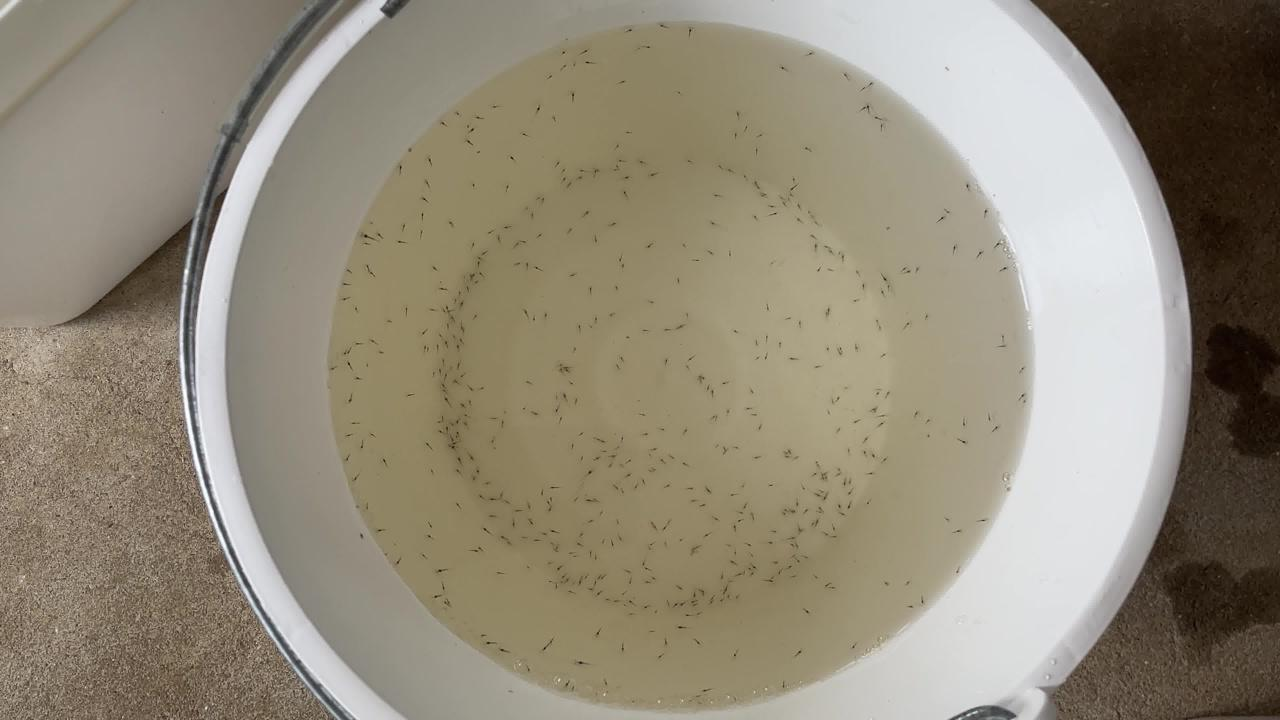shrimp: (653, 656, 665, 664), (658, 643, 670, 651), (642, 629, 654, 637), (674, 625, 686, 633), (689, 639, 701, 647), (679, 614, 691, 622), (692, 611, 704, 619), (661, 600, 673, 608), (615, 646, 627, 654), (591, 631, 603, 639), (599, 598, 611, 606), (611, 599, 623, 607), (615, 592, 627, 600), (624, 599, 636, 607), (624, 609, 636, 617), (640, 605, 652, 613), (646, 608, 658, 616), (673, 600, 685, 608), (673, 587, 685, 595), (687, 590, 699, 598), (687, 597, 699, 605), (687, 601, 699, 609), (694, 590, 706, 598), (705, 595, 717, 603), (702, 601, 714, 609), (712, 597, 724, 605), (722, 594, 734, 602), (728, 595, 740, 603), (720, 588, 732, 596), (716, 575, 728, 583), (722, 579, 734, 587), (730, 572, 742, 580), (735, 572, 747, 580), (728, 561, 740, 569), (728, 553, 740, 561), (743, 568, 755, 576), (744, 564, 756, 572), (761, 579, 773, 587), (763, 575, 775, 583), (773, 570, 785, 578), (771, 562, 783, 570), (780, 564, 792, 572), (788, 572, 800, 580), (806, 574, 818, 582), (791, 560, 803, 568), (786, 557, 798, 565), (798, 555, 810, 563), (792, 542, 804, 550), (785, 544, 797, 552), (785, 536, 797, 544), (764, 541, 776, 549), (769, 530, 781, 538), (742, 541, 754, 549), (743, 551, 755, 559), (720, 542, 732, 550), (818, 531, 830, 539), (828, 532, 840, 540), (828, 524, 840, 532), (793, 528, 805, 536), (778, 510, 790, 518), (778, 507, 790, 515), (784, 508, 796, 516), (790, 498, 802, 506), (802, 507, 814, 515), (804, 521, 816, 529), (812, 521, 824, 529), (812, 511, 824, 519), (814, 507, 826, 515), (833, 513, 845, 521), (833, 506, 845, 514), (844, 504, 856, 512), (843, 491, 855, 499), (838, 483, 850, 491), (843, 479, 855, 487), (833, 473, 845, 481), (832, 468, 844, 476), (811, 462, 823, 470), (804, 471, 816, 479), (794, 485, 806, 493), (809, 495, 821, 503), (812, 488, 824, 496), (819, 495, 831, 503), (816, 480, 828, 488), (817, 474, 829, 482), (793, 453, 805, 461), (782, 455, 794, 463), (779, 449, 791, 457), (785, 447, 797, 455), (765, 482, 777, 490), (750, 455, 762, 463), (738, 484, 750, 492), (728, 492, 740, 500), (738, 501, 750, 509), (744, 517, 756, 525), (736, 510, 748, 518), (734, 517, 746, 525), (727, 522, 739, 530), (710, 518, 722, 526), (699, 531, 711, 539), (686, 547, 698, 555), (645, 519, 657, 527), (658, 522, 670, 530), (686, 496, 698, 504), (696, 499, 708, 507), (701, 489, 713, 497), (681, 487, 693, 495), (658, 542, 670, 550), (641, 548, 653, 556), (644, 542, 656, 550), (635, 559, 647, 567), (639, 563, 651, 571), (649, 574, 661, 582), (642, 578, 654, 586), (625, 578, 637, 586), (622, 571, 634, 579), (593, 593, 605, 601), (584, 587, 596, 595), (587, 581, 599, 589), (591, 574, 603, 582), (595, 574, 607, 582), (569, 590, 581, 598), (572, 583, 584, 591), (581, 577, 593, 585), (553, 586, 565, 594), (545, 580, 557, 588), (561, 580, 573, 588), (560, 575, 572, 583), (554, 567, 566, 575), (543, 561, 555, 569), (569, 555, 581, 563), (565, 550, 577, 558), (575, 543, 587, 551), (581, 553, 593, 561), (588, 554, 600, 562), (595, 538, 607, 546), (604, 541, 616, 549), (611, 536, 623, 544), (612, 522, 624, 530), (576, 534, 588, 542), (584, 519, 596, 527), (595, 515, 607, 523), (568, 495, 580, 503), (578, 498, 590, 506), (588, 498, 600, 506), (548, 484, 560, 492), (534, 488, 546, 496), (543, 493, 555, 501), (540, 496, 552, 504), (545, 503, 557, 511), (546, 530, 558, 538), (549, 549, 561, 557), (533, 537, 545, 545), (521, 536, 533, 544), (508, 521, 520, 529), (510, 509, 522, 517), (523, 502, 535, 510), (523, 518, 535, 526), (505, 541, 517, 549), (498, 536, 510, 544), (482, 529, 494, 537), (485, 515, 497, 523), (474, 492, 486, 500), (485, 497, 497, 505), (492, 490, 504, 498), (500, 498, 512, 506), (480, 481, 492, 489), (469, 476, 481, 484), (469, 468, 481, 476), (452, 470, 464, 478), (452, 461, 464, 469), (463, 453, 475, 461), (449, 448, 461, 456), (449, 442, 461, 450), (446, 437, 458, 445), (435, 432, 447, 440), (440, 426, 452, 434), (451, 430, 463, 438), (429, 419, 441, 427), (433, 416, 445, 424), (448, 420, 460, 428), (456, 422, 468, 430), (458, 416, 470, 424), (455, 405, 467, 413), (460, 402, 472, 410), (442, 401, 454, 409), (462, 386, 474, 394), (470, 385, 482, 393), (439, 391, 451, 399), (436, 386, 448, 394), (424, 372, 436, 380), (434, 367, 446, 375), (437, 377, 449, 385), (451, 381, 463, 389), (456, 373, 468, 381), (454, 364, 466, 372), (436, 357, 448, 365), (417, 344, 429, 352), (422, 347, 434, 355), (418, 330, 430, 338), (434, 345, 446, 353), (436, 335, 448, 343), (441, 343, 453, 351), (449, 347, 461, 355), (455, 341, 467, 349), (447, 334, 459, 342), (442, 325, 454, 333), (424, 307, 436, 315), (455, 326, 467, 334), (447, 318, 459, 326), (440, 310, 452, 318), (439, 305, 451, 313), (465, 313, 477, 321), (458, 301, 470, 309), (451, 299, 463, 307), (453, 291, 465, 299), (434, 287, 446, 295), (428, 264, 440, 272), (460, 287, 472, 295), (469, 280, 481, 288), (467, 276, 479, 284), (476, 273, 488, 281), (471, 263, 483, 271), (472, 258, 484, 266), (477, 252, 489, 260), (467, 242, 479, 250), (490, 235, 502, 243), (486, 230, 498, 238), (484, 413, 496, 421), (495, 420, 507, 428), (483, 437, 495, 445), (484, 445, 496, 453), (441, 218, 453, 226), (501, 224, 513, 232), (507, 243, 519, 251), (513, 240, 525, 248), (525, 412, 537, 420), (520, 381, 532, 389), (550, 408, 562, 416), (550, 396, 562, 404), (558, 393, 570, 401), (515, 406, 527, 414), (553, 417, 565, 425), (566, 399, 578, 407), (569, 444, 581, 452), (570, 431, 582, 439), (591, 436, 603, 444), (577, 457, 589, 465), (582, 468, 594, 476), (587, 456, 599, 464), (595, 449, 607, 457), (616, 435, 628, 443), (612, 447, 624, 455), (609, 455, 621, 463), (604, 461, 616, 469), (613, 463, 625, 471), (619, 457, 631, 465), (606, 485, 618, 493), (613, 488, 625, 496), (618, 473, 630, 481), (627, 485, 639, 493), (633, 479, 645, 487), (658, 484, 670, 492), (639, 470, 651, 478), (645, 468, 657, 476), (645, 454, 657, 462), (643, 447, 655, 455), (653, 459, 665, 467), (662, 453, 674, 461), (676, 465, 688, 473), (638, 432, 650, 440), (634, 410, 646, 418), (656, 426, 668, 434), (675, 429, 687, 437), (710, 446, 722, 454), (716, 446, 728, 454), (718, 452, 730, 460), (727, 444, 739, 452), (754, 427, 766, 435), (746, 413, 758, 421), (740, 405, 752, 413), (746, 389, 758, 397), (722, 409, 734, 417), (702, 413, 714, 421), (707, 418, 719, 426), (707, 392, 719, 400), (715, 380, 727, 388), (702, 386, 714, 394), (694, 381, 706, 389), (694, 375, 706, 383), (681, 367, 693, 375), (682, 354, 694, 362), (663, 356, 675, 364), (617, 355, 629, 363), (609, 360, 621, 368), (566, 381, 578, 389), (553, 367, 565, 375), (558, 363, 570, 371), (569, 347, 581, 355), (517, 307, 529, 315), (525, 313, 537, 321), (536, 312, 548, 320), (571, 326, 583, 334), (582, 324, 594, 332), (589, 316, 601, 324), (603, 310, 615, 318), (620, 334, 632, 342), (636, 327, 648, 335), (657, 325, 669, 333), (670, 324, 682, 332), (681, 313, 693, 321), (648, 301, 660, 309), (608, 285, 620, 293), (582, 285, 594, 293), (563, 272, 575, 280), (532, 266, 544, 274), (520, 262, 532, 270), (510, 261, 522, 269), (614, 265, 626, 273), (612, 257, 624, 265), (639, 244, 651, 252), (689, 256, 701, 264), (678, 241, 690, 249), (669, 278, 681, 286), (588, 239, 600, 247), (603, 222, 615, 230), (579, 211, 591, 219), (563, 230, 575, 238), (532, 235, 544, 243), (528, 213, 540, 221), (528, 195, 540, 203), (536, 197, 548, 205), (549, 158, 561, 166), (554, 165, 566, 173), (559, 177, 571, 185), (562, 182, 574, 190), (572, 175, 584, 183), (574, 168, 586, 176), (587, 171, 599, 179), (608, 145, 620, 153), (618, 129, 630, 137), (616, 158, 628, 166), (610, 166, 622, 174), (620, 175, 632, 183), (618, 190, 630, 198), (642, 170, 654, 178), (636, 158, 648, 166), (682, 160, 694, 168), (705, 191, 717, 199), (707, 219, 719, 227), (697, 251, 709, 259), (719, 249, 731, 257), (748, 214, 760, 222), (709, 161, 721, 169), (720, 164, 732, 172), (738, 170, 750, 178), (750, 178, 762, 186), (755, 189, 767, 197), (763, 201, 775, 209), (762, 209, 774, 217), (776, 204, 788, 212), (775, 194, 787, 202), (784, 195, 796, 203), (785, 185, 797, 193), (786, 175, 798, 183), (795, 217, 807, 225), (792, 203, 804, 211), (803, 209, 815, 217), (812, 219, 824, 227), (807, 232, 819, 240), (807, 240, 819, 248), (821, 241, 833, 249), (820, 248, 832, 256), (830, 248, 842, 256), (835, 249, 847, 257), (827, 267, 839, 275), (814, 266, 826, 274), (762, 303, 774, 311), (729, 329, 741, 337), (748, 339, 760, 347), (758, 333, 770, 341), (751, 354, 763, 362), (758, 351, 770, 359), (770, 342, 782, 350), (778, 315, 790, 323), (792, 321, 804, 329), (785, 352, 797, 360), (808, 363, 820, 371), (821, 309, 833, 317), (818, 346, 830, 354), (829, 348, 841, 356), (836, 345, 848, 353), (852, 346, 864, 354), (845, 296, 857, 304), (855, 282, 867, 290), (852, 269, 864, 277), (878, 275, 890, 283), (884, 284, 896, 292), (877, 291, 889, 299), (871, 321, 883, 329), (877, 352, 889, 360), (896, 322, 908, 330), (917, 315, 929, 323), (896, 263, 908, 271), (897, 271, 909, 279), (911, 266, 923, 274), (821, 408, 833, 416), (823, 395, 835, 403), (831, 395, 843, 403), (870, 393, 882, 401), (871, 387, 883, 395), (879, 391, 891, 399), (868, 405, 880, 413), (851, 417, 863, 425), (830, 425, 842, 433), (843, 448, 855, 456), (856, 438, 868, 446), (873, 426, 885, 434), (873, 415, 885, 423), (857, 451, 869, 459), (870, 449, 882, 457), (877, 456, 889, 464), (865, 473, 877, 481), (860, 500, 872, 508), (911, 409, 923, 417), (920, 419, 932, 427), (918, 433, 930, 441), (957, 440, 969, 448), (959, 424, 971, 432), (982, 411, 994, 419), (986, 425, 998, 433), (1020, 395, 1032, 403), (1019, 366, 1031, 374), (997, 343, 1009, 351), (997, 336, 1009, 344), (997, 267, 1009, 275), (992, 243, 1004, 251), (974, 251, 986, 259), (947, 242, 959, 250), (932, 215, 944, 223), (936, 208, 948, 216), (957, 183, 969, 191), (980, 208, 992, 216), (977, 514, 989, 522), (953, 528, 965, 536), (940, 518, 952, 526), (949, 564, 961, 572), (917, 596, 929, 604), (903, 604, 915, 612), (899, 580, 911, 588), (880, 581, 892, 589), (848, 646, 860, 654), (800, 609, 812, 617), (820, 581, 832, 589), (824, 587, 836, 595), (794, 649, 806, 657), (776, 685, 788, 693), (730, 651, 742, 659), (702, 684, 714, 692), (690, 695, 702, 703), (600, 682, 612, 690), (578, 661, 590, 669), (538, 642, 550, 650), (557, 679, 569, 687), (567, 685, 579, 693), (525, 668, 537, 676), (500, 649, 512, 657), (486, 642, 498, 650), (478, 633, 490, 641), (428, 593, 440, 601), (441, 599, 453, 607), (438, 586, 450, 594), (437, 566, 449, 574), (466, 545, 478, 553), (473, 546, 485, 554), (496, 568, 508, 576), (522, 564, 534, 572), (421, 554, 433, 562), (421, 536, 433, 544), (423, 523, 435, 531), (448, 503, 460, 511), (424, 471, 436, 479), (419, 442, 431, 450), (375, 457, 387, 465), (371, 527, 383, 535), (392, 556, 404, 564), (361, 503, 373, 511), (348, 473, 360, 481), (342, 456, 354, 464), (356, 443, 368, 451), (342, 432, 354, 440), (350, 422, 362, 430), (368, 433, 380, 441), (405, 393, 417, 401), (343, 399, 355, 407), (326, 365, 338, 373), (343, 364, 355, 372), (355, 378, 367, 386), (337, 349, 349, 357), (341, 349, 353, 357), (350, 342, 362, 350), (364, 337, 376, 345), (374, 348, 386, 356), (362, 361, 374, 369), (351, 308, 363, 316), (379, 317, 391, 325), (399, 310, 411, 318), (340, 294, 352, 302), (340, 284, 352, 292), (341, 270, 353, 278), (366, 269, 378, 277), (360, 244, 372, 252), (360, 235, 372, 243), (373, 231, 385, 239), (391, 241, 403, 249), (395, 226, 407, 234), (413, 231, 425, 239), (417, 217, 429, 225), (418, 202, 430, 210), (420, 186, 432, 194), (424, 155, 436, 163), (392, 164, 404, 172), (434, 123, 446, 131), (448, 110, 460, 118), (461, 142, 473, 150), (466, 130, 478, 138), (461, 124, 473, 132), (469, 114, 481, 122), (481, 105, 493, 113), (463, 183, 475, 191), (501, 186, 513, 194), (505, 155, 517, 163), (517, 131, 529, 139), (530, 105, 542, 113), (547, 116, 559, 124), (562, 96, 574, 104), (543, 71, 555, 79), (552, 65, 564, 73), (555, 50, 567, 58), (567, 65, 579, 73), (574, 49, 586, 57), (579, 58, 591, 66), (639, 44, 651, 52), (626, 27, 638, 35), (612, 80, 624, 88), (654, 22, 666, 30), (680, 26, 692, 34), (674, 91, 686, 99), (730, 112, 742, 120), (726, 135, 738, 143), (739, 125, 751, 133), (751, 131, 763, 139), (750, 151, 762, 159), (800, 149, 812, 157), (775, 67, 787, 75), (804, 49, 816, 57), (838, 72, 850, 80), (863, 82, 875, 90), (853, 106, 865, 114), (860, 107, 872, 115), (873, 117, 885, 125), (874, 128, 886, 136), (764, 260, 776, 268)
